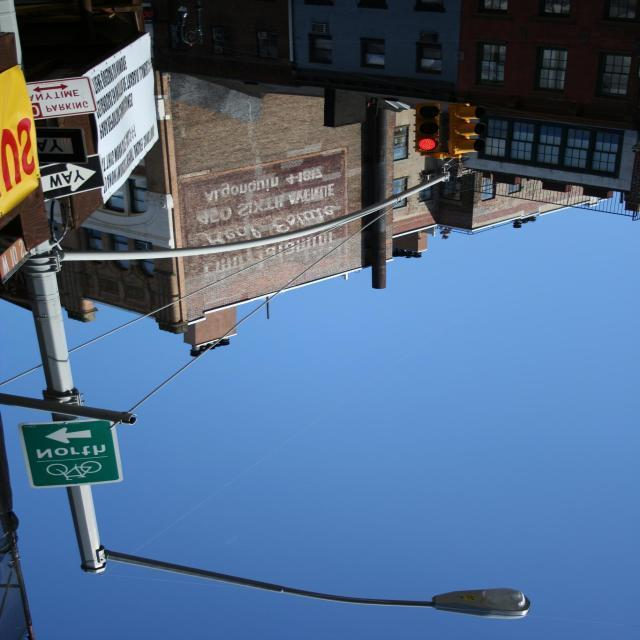off: (372, 533, 566, 636)
